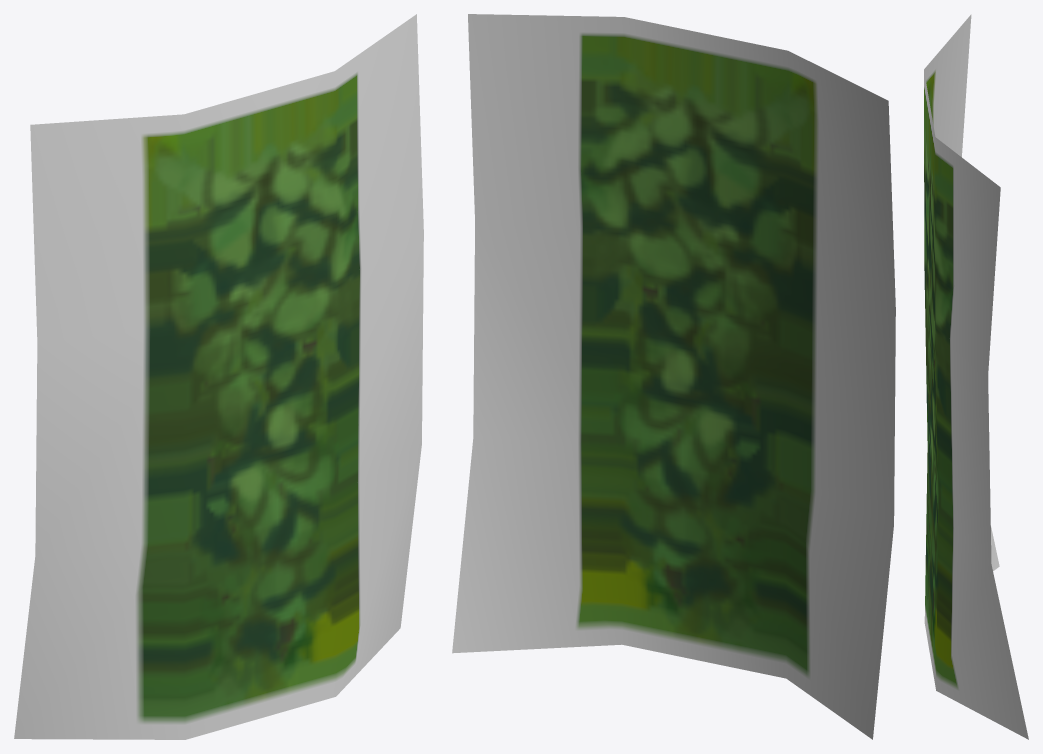
Rendered from treapadeiraLOD.fbx.
3 views of the same model, side by side, from view 1: azimuth 30°, elevation 25°; view 2: azimuth 150°, elevation 25°; view 3: azimuth 270°, elevation 25° (orthographic). The views are drawn at different scales.
Visible parts, largest first — view 1: trepadeira_LOD0; view 2: trepadeira_LOD0; view 3: trepadeira_LOD0.
Part boxes in pixels (box(x1,y1,x2,y2)): trepadeira_LOD0: box(14, 14, 423, 739); trepadeira_LOD0: box(452, 14, 895, 739); trepadeira_LOD0: box(924, 14, 1028, 739).
Size of what is drawn, in the model's own units: 45.25 by 67.26 by 11.55.
